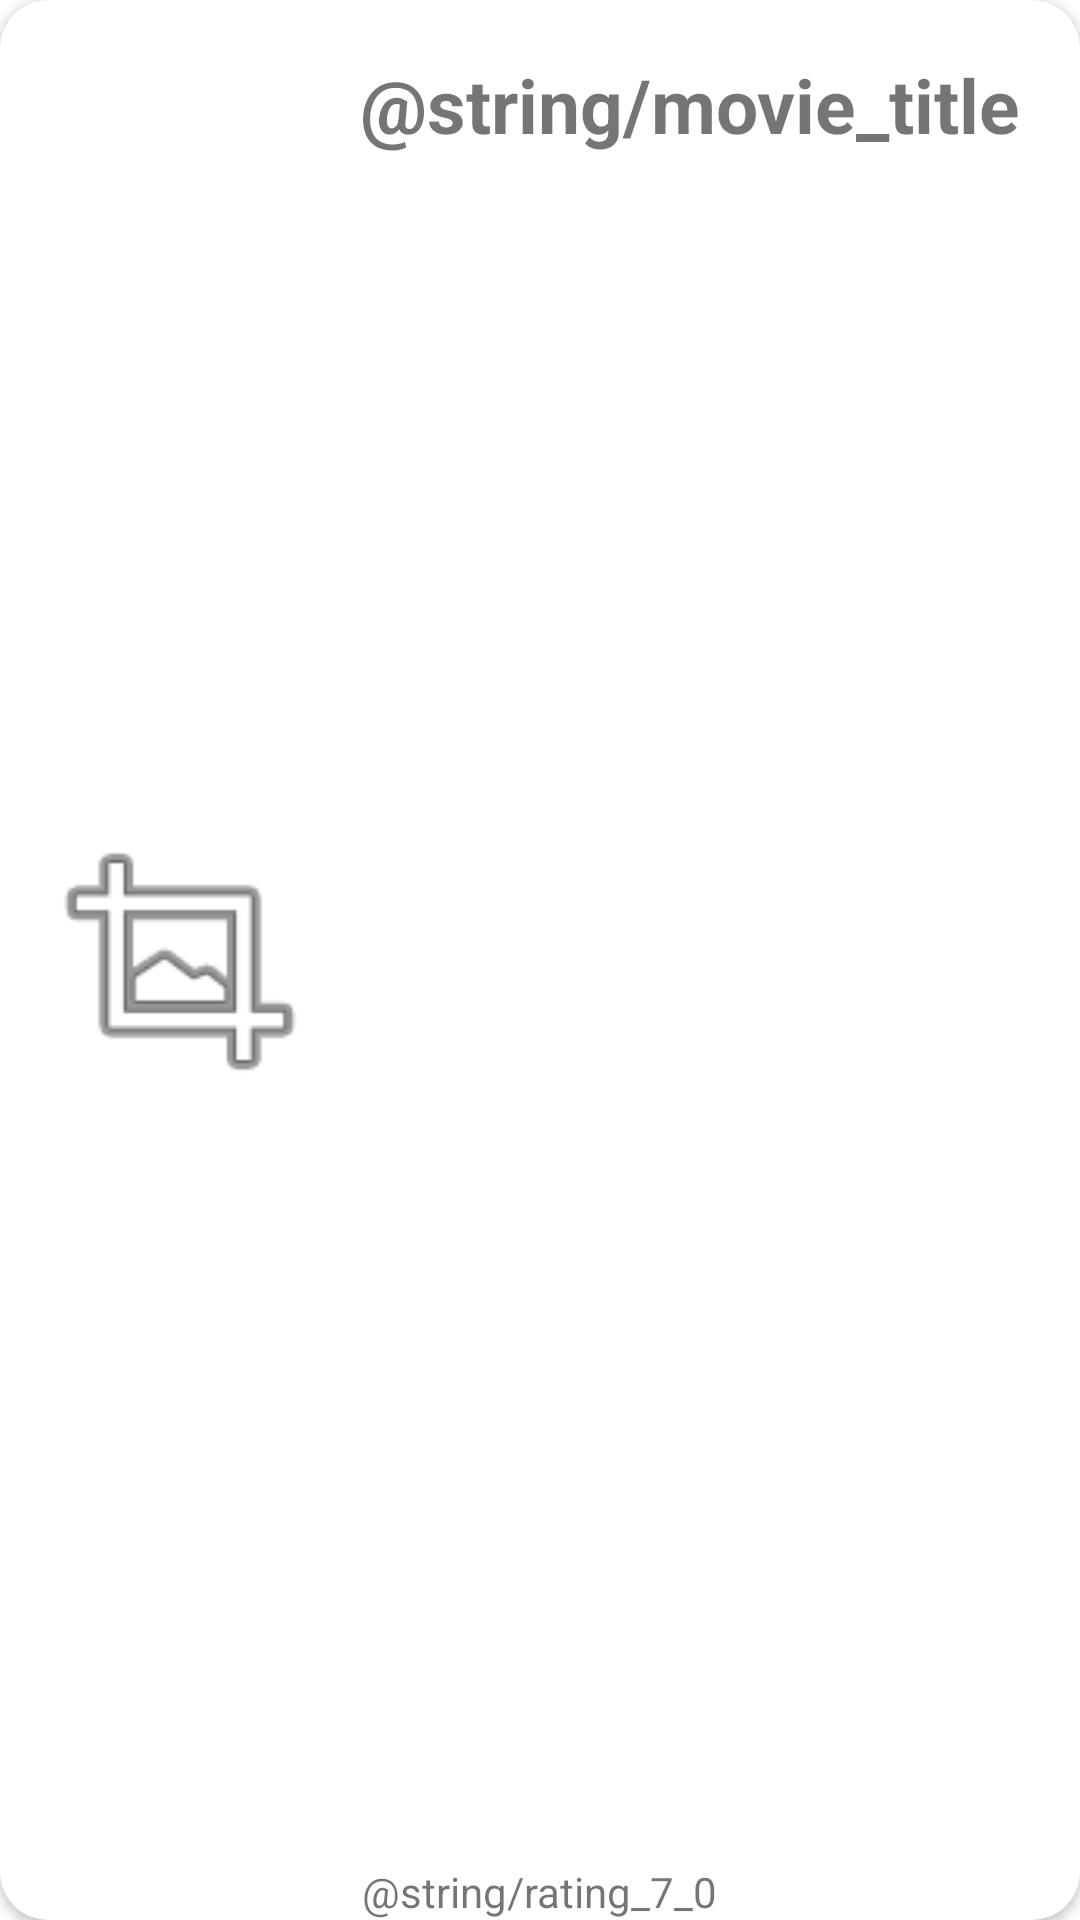

Where to tap for icons on this 1080*1920 app screen, as point (x, y):
crop: point (180, 961)
